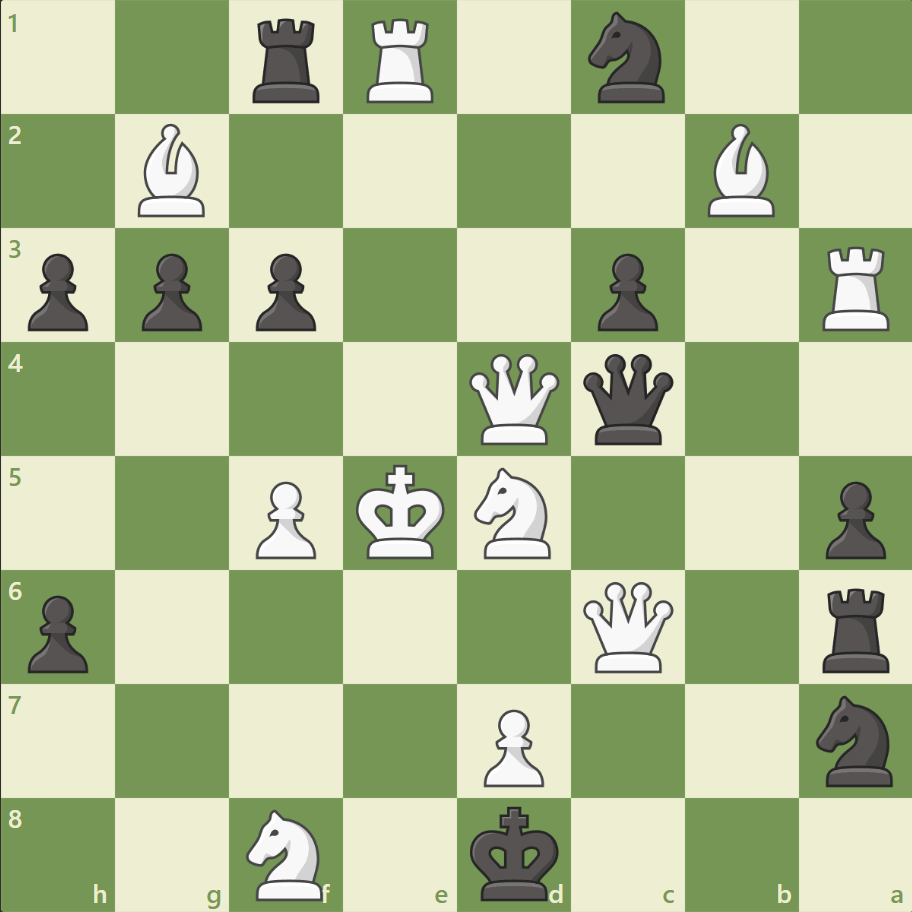B: (698, 120, 782, 222), (131, 120, 215, 222)
K: (351, 458, 451, 566)
N: (465, 461, 562, 564), (238, 802, 335, 904)
P: (474, 700, 549, 791), (247, 473, 322, 564)
Q: (578, 576, 677, 676), (464, 349, 563, 449)
R: (814, 239, 897, 336), (360, 12, 442, 109)
k: (465, 798, 565, 906)
n: (806, 688, 903, 791), (579, 7, 676, 110)
p: (20, 586, 95, 677), (247, 246, 322, 337), (133, 246, 208, 337), (20, 246, 95, 337), (815, 473, 889, 564), (588, 246, 662, 337)
q: (578, 349, 677, 449)
r: (814, 579, 897, 676), (246, 12, 329, 109)
